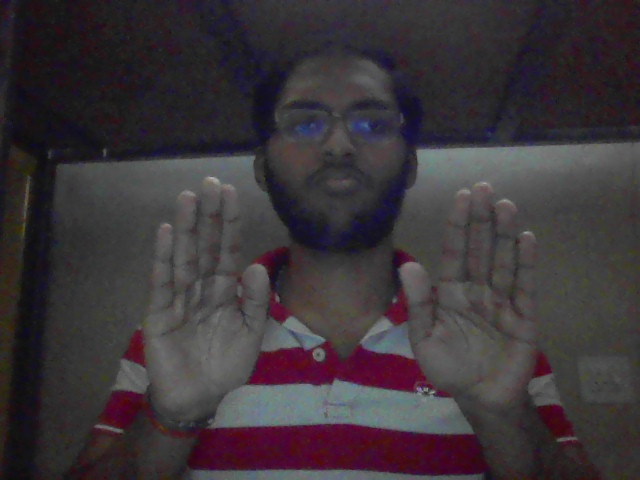God_Bless_You: (122, 172, 574, 423)
